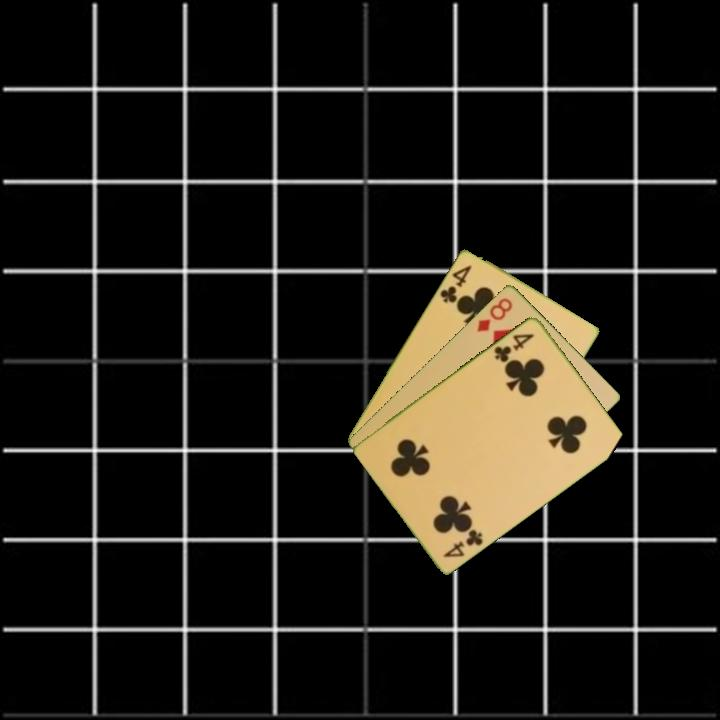4c: (436, 261, 475, 305), (490, 329, 537, 365), (439, 525, 486, 560)
8d: (473, 294, 516, 334)
